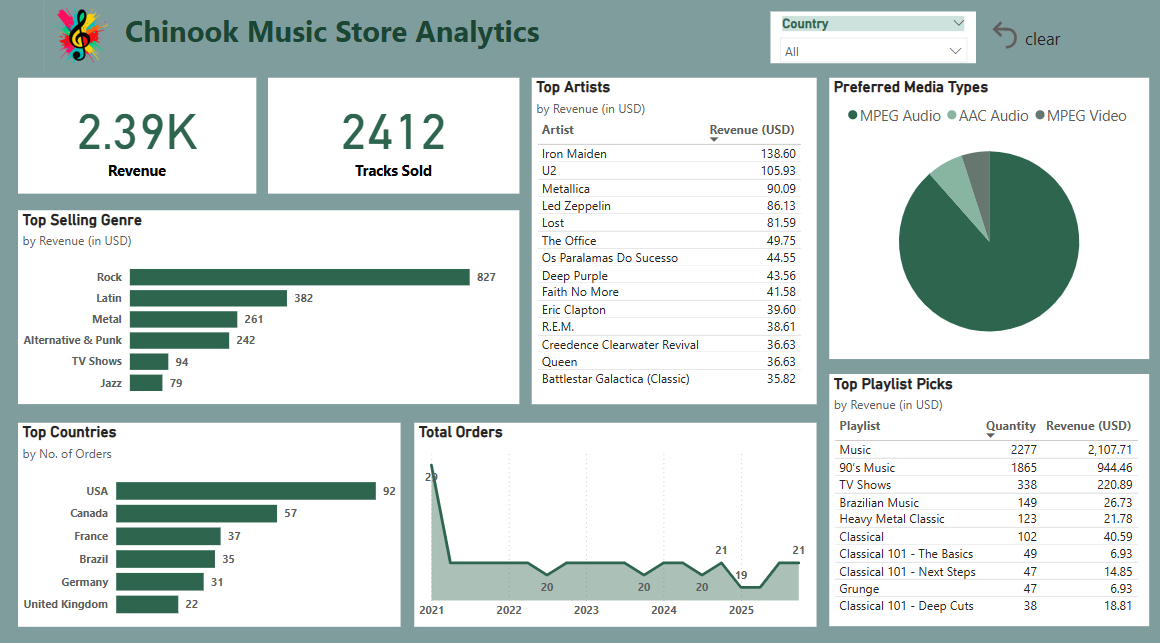

This screenshot's page, from the dashboard's own definition file:
{"tool":"powerbi","page":{"name":"Page 1","canvas":[1280,720],"ordinal":0},"visuals":[{"type":"shape","box":[0,0,1280,720],"z":0},{"type":"card","fields":{"Values":["Sum(Invoice.TotalPrice)"]},"box":[21.4,91.4,261.4,127.1],"z":1000},{"type":"card","fields":{"Values":["Sum(Invoice.Quantity)"]},"box":[295.7,91.4,275.7,127.1],"z":2000},{"type":"pieChart","title":"Preferred Media Types","fields":{"Category":["MediaType.Name"],"Y":["CountNonNull(InvoiceLine.InvoiceLineId)"]},"box":[912.9,91.4,351.4,308.6],"z":3000},{"type":"clusteredBarChart","title":"Top Selling Genre","fields":{"Category":["Genre.Name"],"Y":["Sum(InvoiceLine.UnitPrice)"]},"box":[21.4,237.1,550,212.9],"z":4000},{"type":"barChart","title":"Top Countries","fields":{"Category":["Customer.Country"],"Y":["CountNonNull(Invoice.InvoiceId)"]},"box":[21.4,470,420,224.3],"z":5000},{"type":"areaChart","title":"Total Orders","fields":{"Y":["CountNonNull(Invoice.InvoiceId)"],"Category":["Invoice.InvoiceDate.Variation.Date Hierarchy.Year","Invoice.InvoiceDate.Variation.Date Hierarchy.Quarter"]},"box":[457.1,470,441.4,224.3],"z":6000},{"type":"tableEx","title":"Top Artists","fields":{"Values":["Artist.Name","Sum(InvoiceLine.UnitPrice)"]},"box":[585.7,91.4,312.9,358.6],"z":7000},{"type":"tableEx","title":"Top Playlist Picks","fields":{"Values":["Playlist.Name","Sum(Invoice.Quantity)","Sum(InvoiceLine.UnitPrice)"]},"box":[912.9,417.1,351.4,277.1],"z":8000},{"type":"slicer","fields":{"Values":["Invoice.BillingCountry"]},"box":[848.6,18.6,225.7,57.1],"z":9000},{"type":"textbox","box":[134.3,14.3,505.7,71.4],"z":10000},{"type":"image","box":[45.7,0,91.4,92.9],"z":11000},{"type":"actionButton","box":[1049.3,20.7,145.7,50.7],"z":12000},{"type":"actionButton","box":[1085.8,25,148.3,40],"z":13000},{"type":"textbox","box":[1122.5,31.7,90.8,37.5],"z":14000}]}

Visuals, with their boxes in screenshot pixels (x1, y1, x2, y2), scaled from the page's 1280x720 canvas onto the 1160x643 screenshot:
shape: (0,0,1159,642)
card - Sum(Invoice.TotalPrice): (19,82,256,195)
card - Sum(Invoice.Quantity): (268,82,518,195)
"Preferred Media Types" pieChart: (827,82,1146,357)
"Top Selling Genre" clusteredBarChart: (19,212,518,402)
"Top Countries" barChart: (19,420,400,620)
"Total Orders" areaChart: (414,420,814,620)
"Top Artists" tableEx: (531,82,814,402)
"Top Playlist Picks" tableEx: (827,372,1146,620)
slicer - Invoice.BillingCountry: (769,17,974,68)
textbox: (122,13,580,77)
image: (41,0,124,83)
actionButton: (951,18,1083,64)
actionButton: (984,22,1118,58)
textbox: (1017,28,1100,62)
